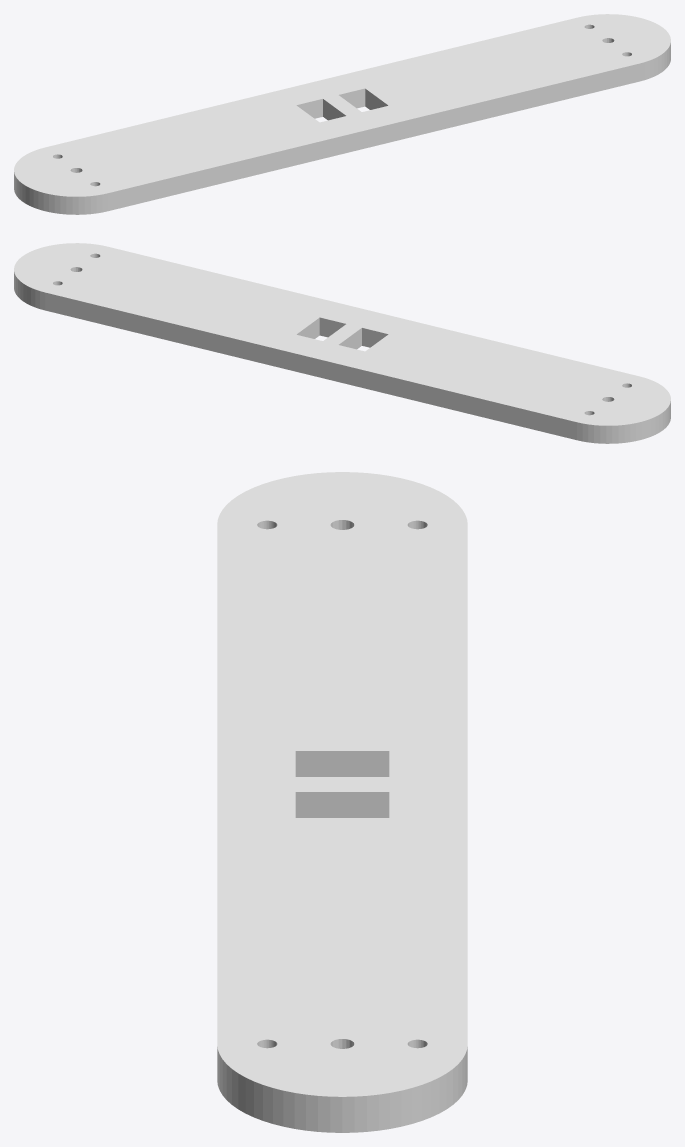
File: xtion_base.dae
3 views of the same model, one above another, from view 1: azimuth 30°, elevation 25°; view 2: azimuth 150°, elevation 25°; view 3: azimuth 270°, elevation 25° (orthographic). The views are drawn at different scales.
Parts seen in each view (by area): view 1: node; view 2: node; view 3: node.
Part boxes in pixels (x1=…): node: x1=14, y1=14, x2=670, y2=214; node: x1=14, y1=243, x2=670, y2=443; node: x1=217, y1=472, x2=467, y2=1132.
Bounding box in the file's own units: 236 × 6.35 × 40.
Materials: 1 (1 with a texture image).
